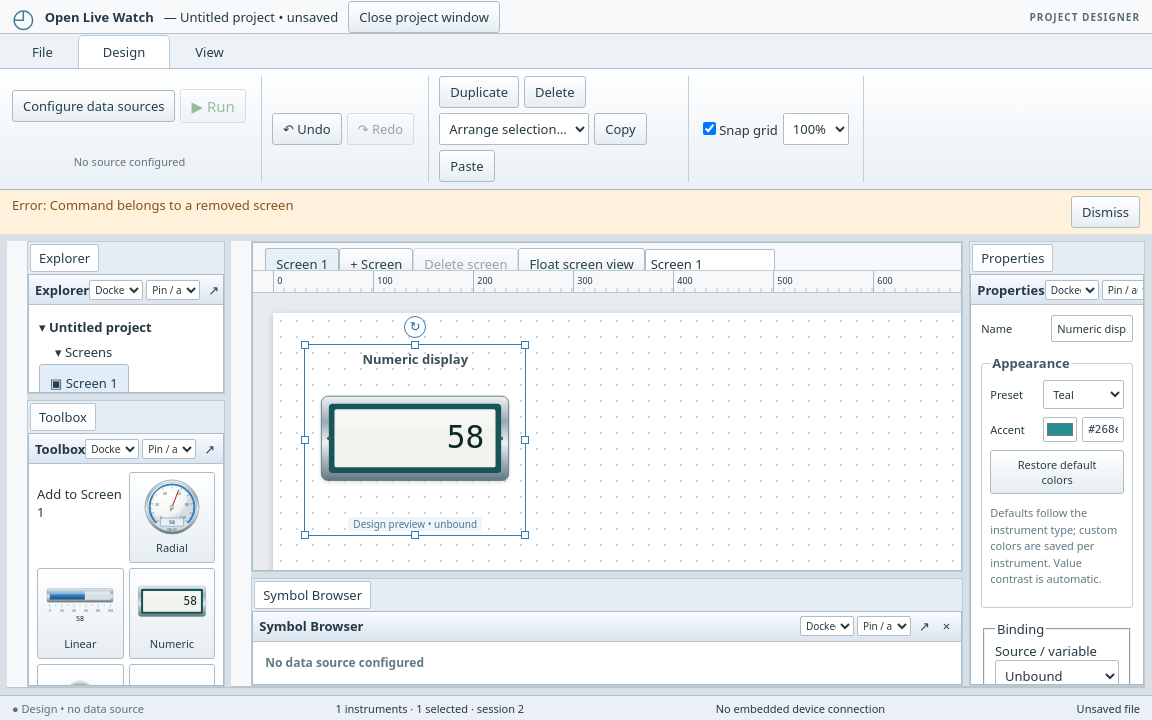
Test: native floating actions add on current authority and reject stale or modal edits
The width and height of the screenshot is (1152, 720).
Expected: the number of elements with class "widget" is 1, [305, 345, 525, 535]
Click the button "+ Screen": click(376, 264) [339, 248, 413, 280]
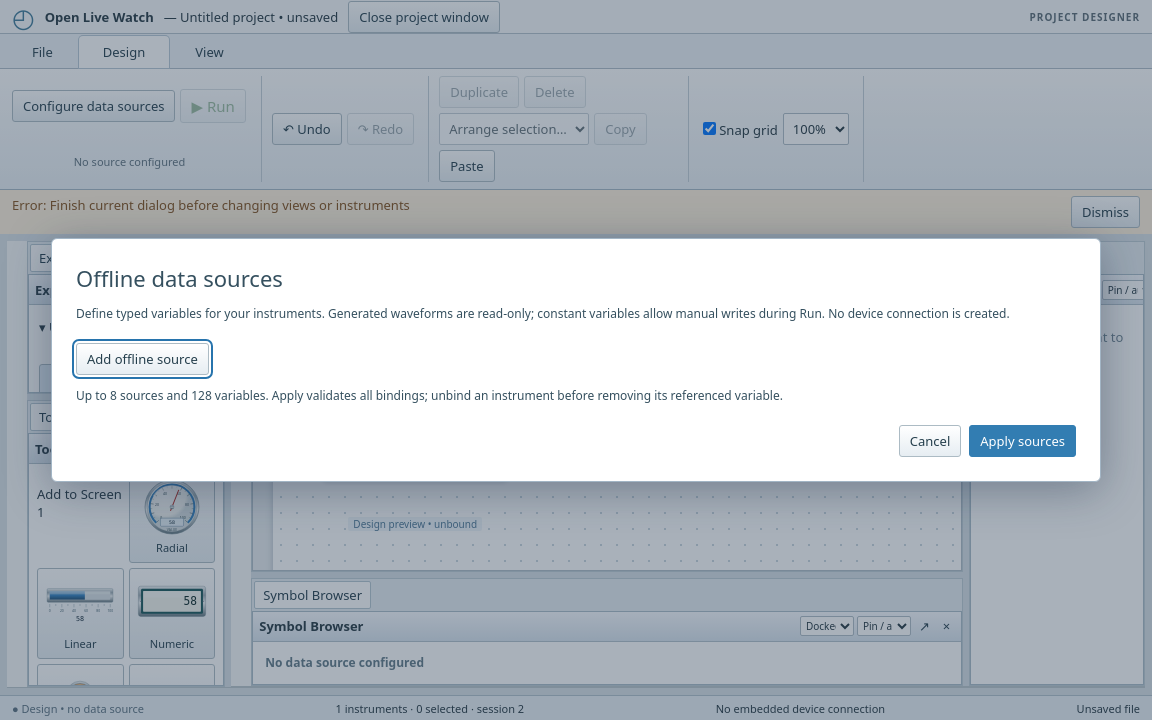
Expected: the number of elements with class "widget" is 1, [305, 345, 525, 535]
Result: the dialog named "Configure offline data sources" is shown at [51, 238, 1101, 482]
